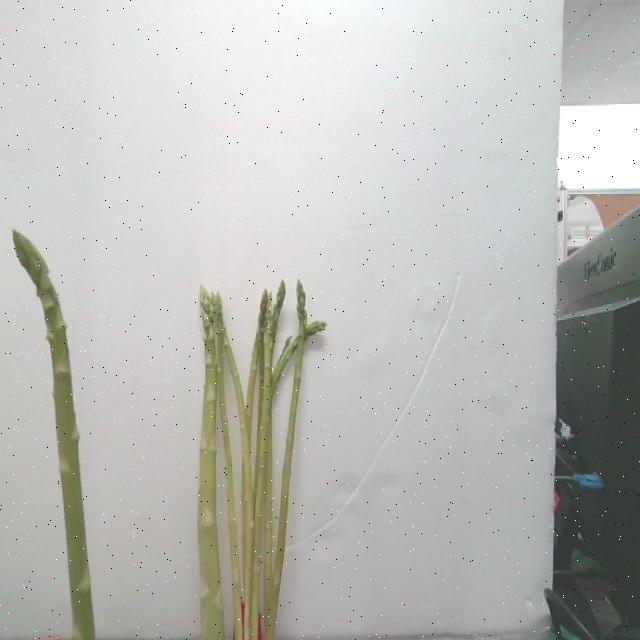aspargus: (9, 232, 93, 640)
